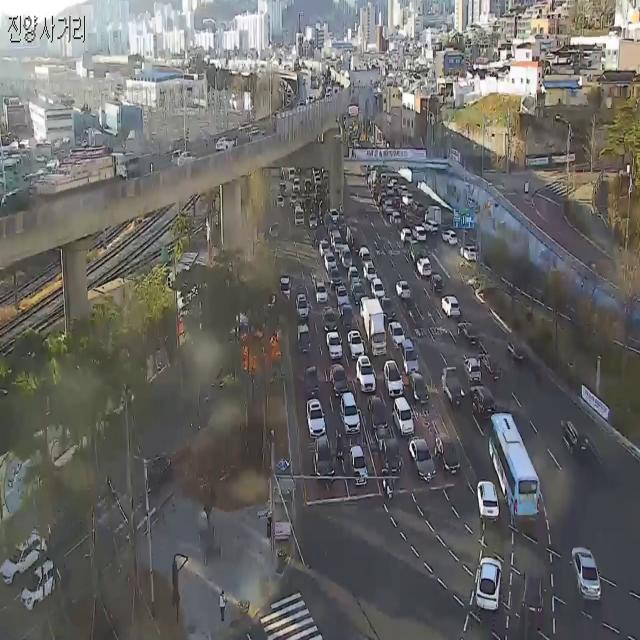bus: (376, 448, 403, 510)
car: (491, 406, 544, 531), (477, 553, 503, 614)
motorcycle: (0, 523, 56, 600), (125, 440, 179, 503), (560, 408, 599, 482), (520, 570, 552, 640), (23, 563, 65, 613), (574, 543, 604, 601), (412, 416, 436, 485), (469, 382, 501, 433), (312, 430, 337, 488), (443, 351, 463, 417), (212, 125, 245, 165), (510, 318, 532, 377), (296, 351, 320, 401), (307, 399, 331, 447), (172, 140, 200, 174), (478, 473, 499, 518), (392, 396, 412, 439), (445, 429, 458, 494), (275, 252, 292, 301), (482, 337, 498, 387), (404, 302, 431, 331), (356, 359, 378, 394), (342, 391, 360, 430), (406, 375, 434, 400), (465, 353, 481, 390), (368, 402, 386, 434), (462, 317, 482, 344), (462, 240, 478, 273), (328, 369, 344, 402), (385, 361, 402, 392), (399, 342, 424, 363), (417, 257, 432, 287), (327, 330, 342, 360), (347, 328, 362, 357), (439, 297, 458, 318), (443, 224, 461, 246), (356, 451, 368, 482), (296, 320, 310, 344), (324, 309, 337, 332), (412, 224, 428, 242), (430, 268, 442, 290), (398, 274, 412, 291), (323, 250, 334, 264)
truck: (41, 146, 147, 223), (362, 297, 389, 360), (375, 428, 404, 477), (423, 207, 443, 222)
